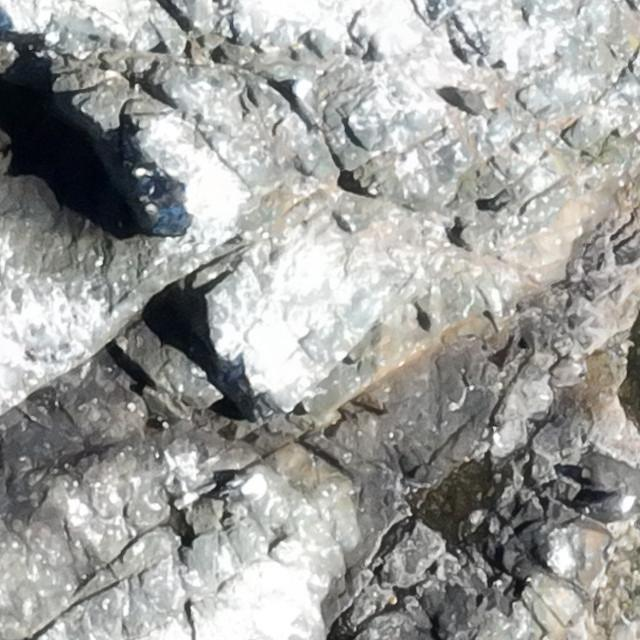umineko: (291, 76, 322, 126), (231, 474, 267, 504), (591, 497, 635, 515)
